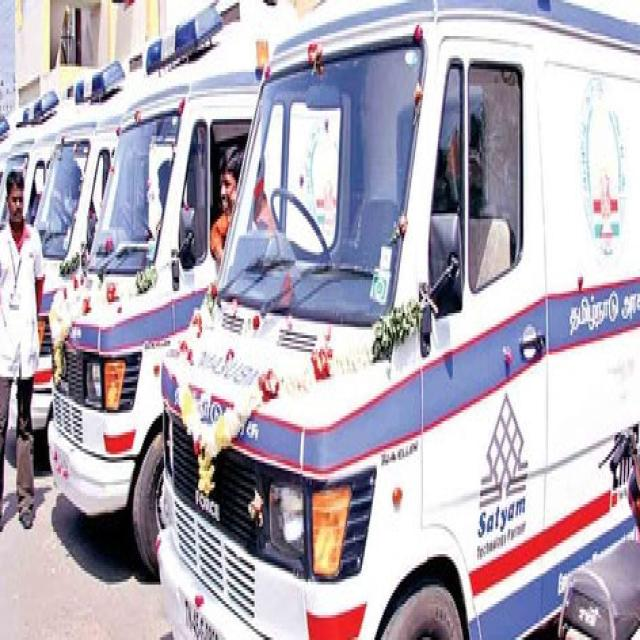ambulance: (160, 1, 640, 640), (50, 18, 227, 565)
